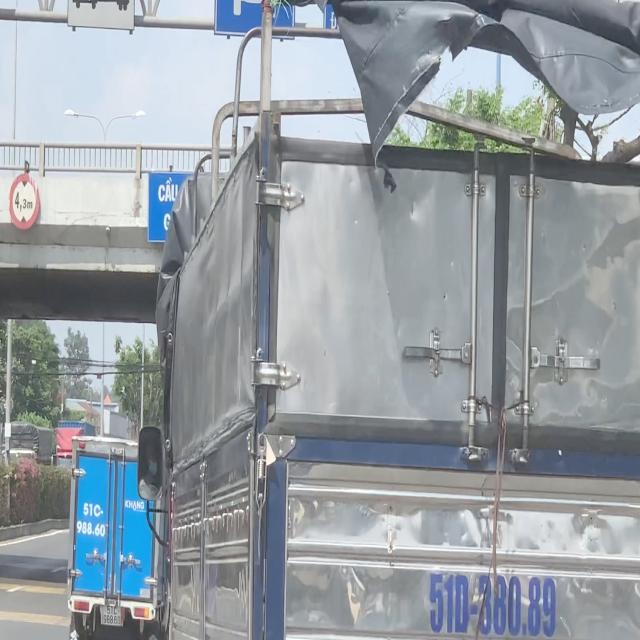Chieu cao toi da: (6, 168, 40, 238)
